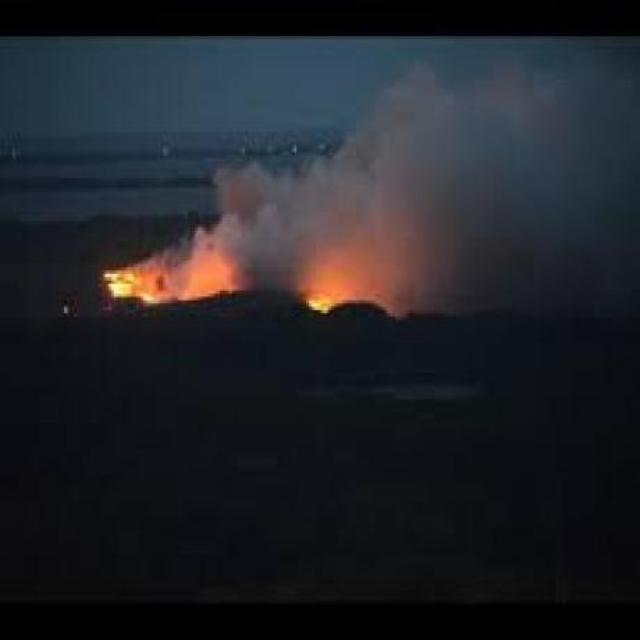Fire: (100, 246, 152, 318), (302, 286, 343, 336)
Smoke: (314, 43, 640, 285), (156, 116, 299, 321)
